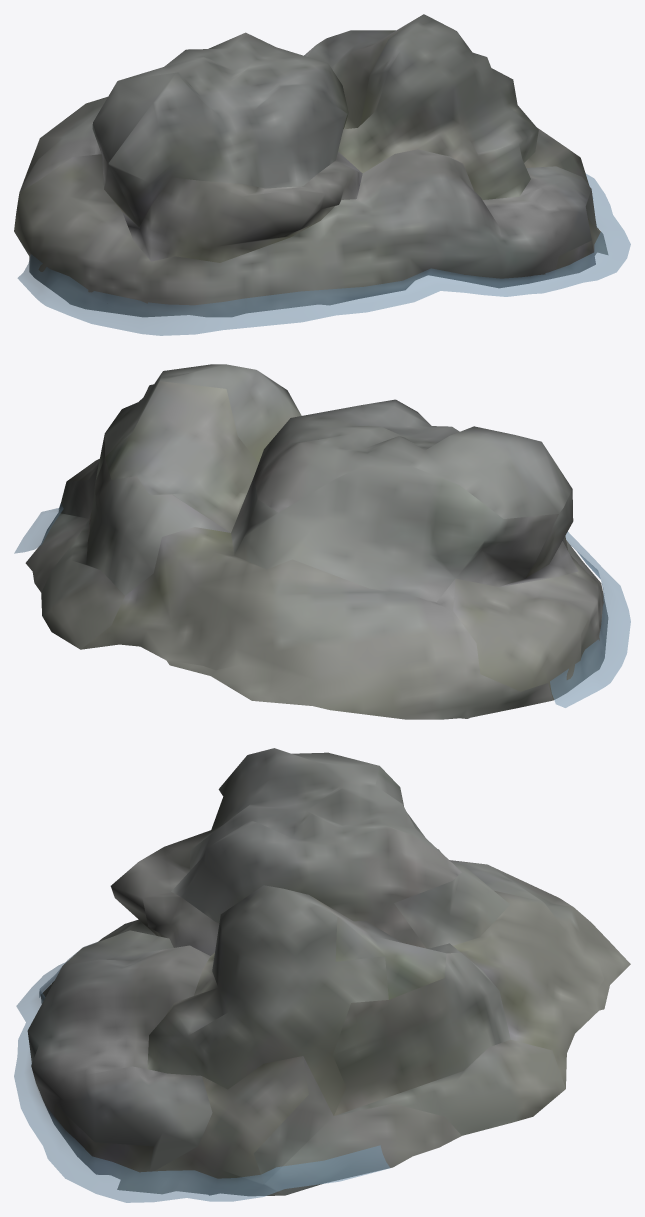
Rendered from river-rock-2.glb.
3 views of the same model, one above another, from view 1: azimuth 30°, elevation 25°; view 2: azimuth 150°, elevation 25°; view 3: azimuth 270°, elevation 25° (orthographic). The views are drawn at different scales.
Bounding box in the file's own units: 27.65 × 10.01 × 24.1.
2 materials, 1 textured.
